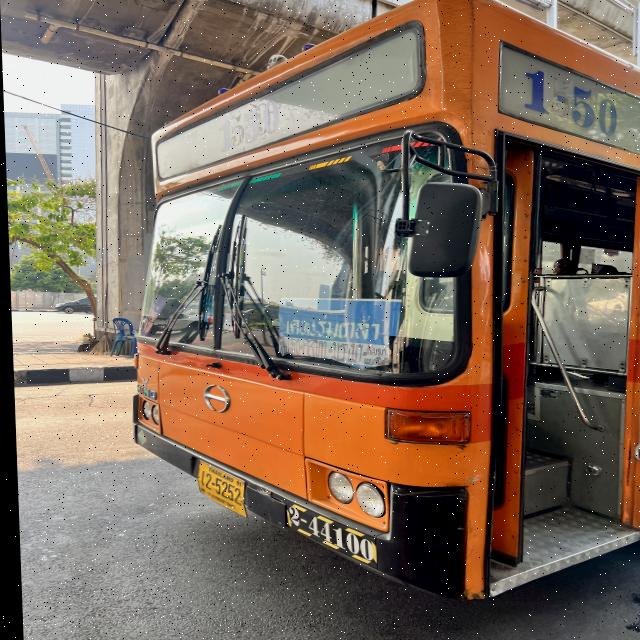BMTA-bus: (127, 0, 640, 603)
Bus Line Number: (209, 96, 282, 157)
Bus Side Number: (282, 502, 373, 571)
Destination Sign: (274, 297, 401, 370)
